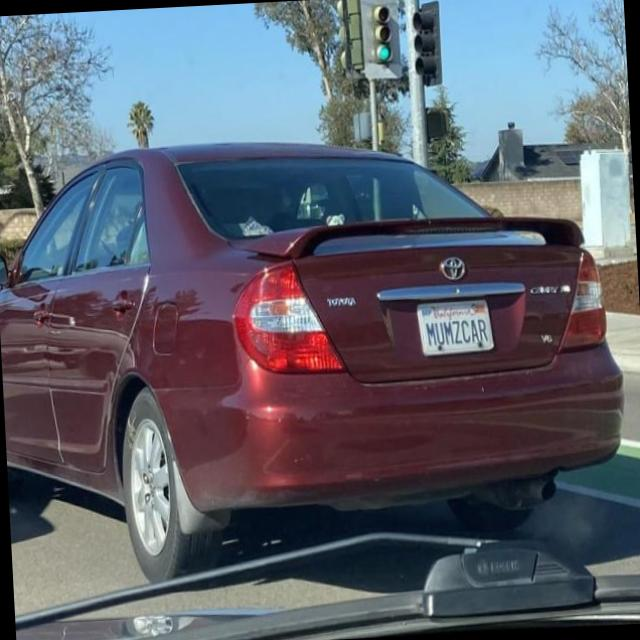LicensePlate: (416, 299, 494, 357)
